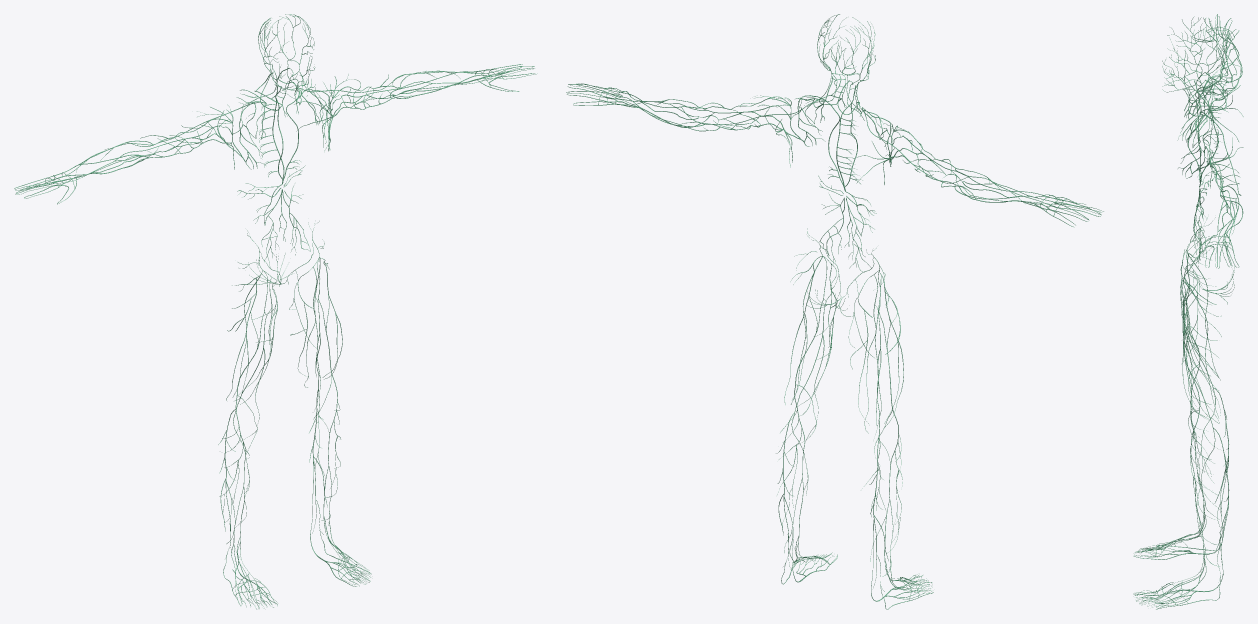
The model's file is Lymph_Vessels.fbx.
3 renders of one model, left to right at view 1: azimuth 30°, elevation 25°; view 2: azimuth 150°, elevation 25°; view 3: azimuth 270°, elevation 25°, orthographic. The views are drawn at different scales.
Visible parts, largest first — view 1: Lymph_Vessels; view 2: Lymph_Vessels; view 3: Lymph_Vessels.
Part boxes in pixels (x1,y1,x2,y2): Lymph_Vessels: (14, 14, 537, 609); Lymph_Vessels: (566, 14, 1103, 609); Lymph_Vessels: (1133, 14, 1243, 609).
Size of the model in its own units: 173 by 179 by 32.13.
